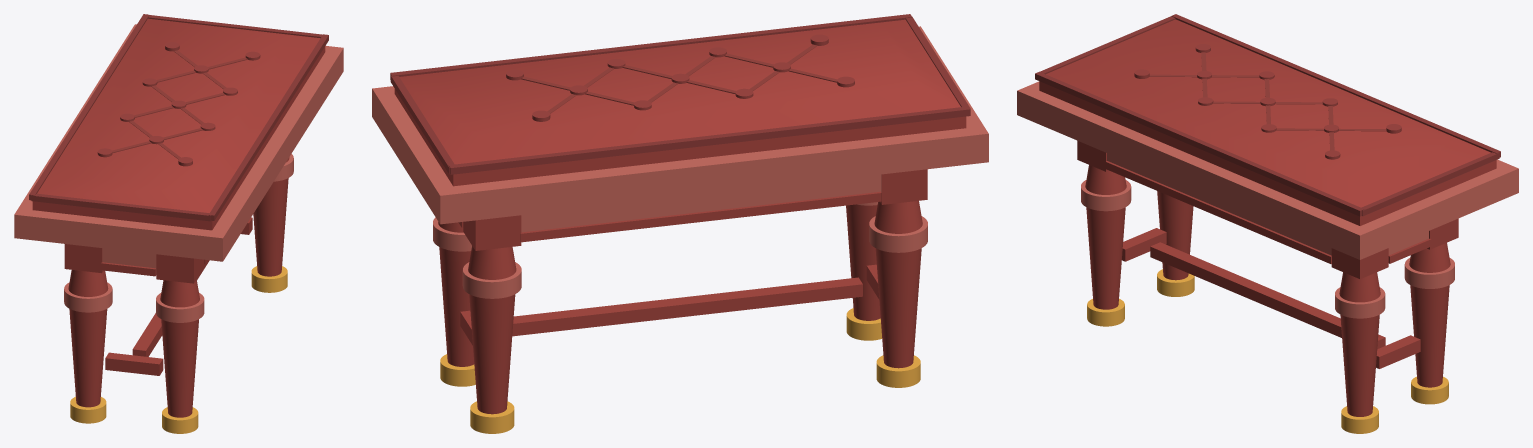
Rendered from bench.glb.
3 renders of one model, left to right at view 1: azimuth 30°, elevation 25°; view 2: azimuth 150°, elevation 25°; view 3: azimuth 270°, elevation 25°, orthographic. The views are drawn at different scales.
Parts seen in each view (by area): view 1: bench; view 2: bench; view 3: bench.
Boxes of the visible parts, bbox=[...] form: bench: bbox=[14, 14, 343, 433]; bench: bbox=[372, 14, 988, 433]; bench: bbox=[1017, 14, 1518, 433].
Size of the model in its own units: 1.12 by 0.633 by 1.12.
